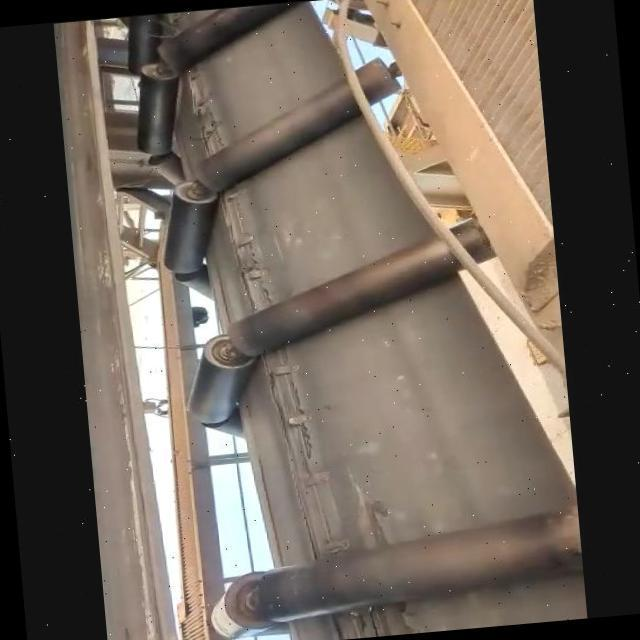Tear: (254, 348, 362, 558), (214, 182, 278, 316), (172, 66, 230, 152), (319, 597, 422, 640)
Wear: (335, 462, 395, 552)
